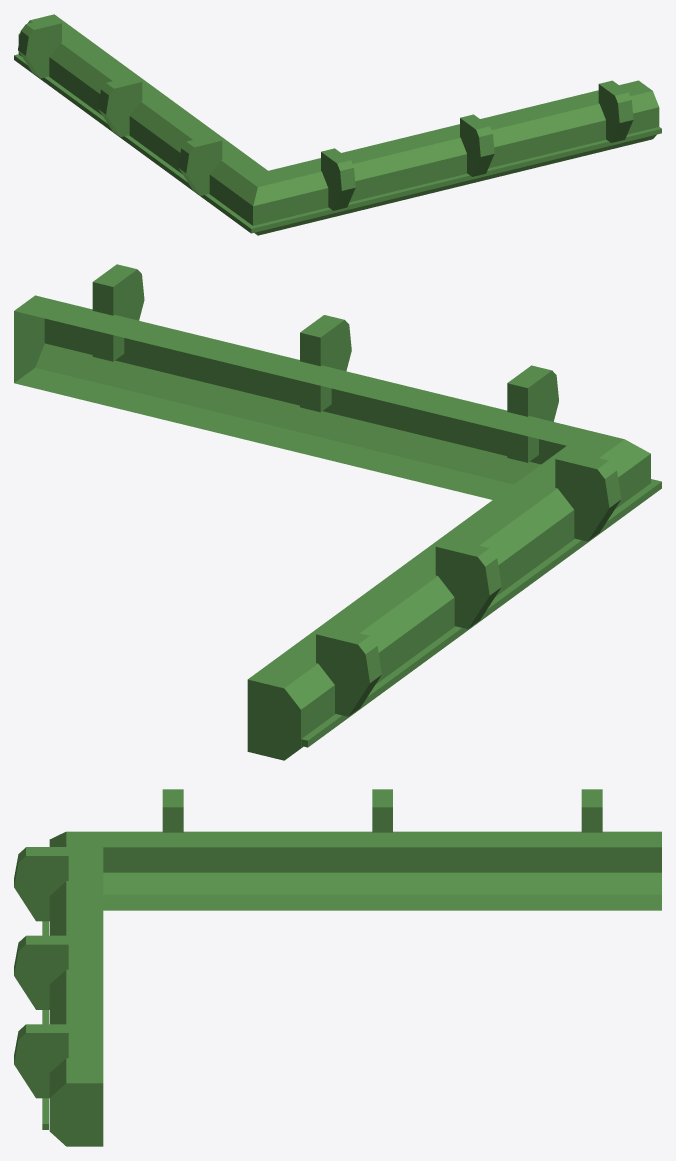
Rendered from parapet corner.FBX.
The picture shows the model from 3 angles, top to bottom: view 1: azimuth 30°, elevation 25°; view 2: azimuth 150°, elevation 25°; view 3: azimuth 270°, elevation 25°; orthographic projection. The views are drawn at different scales.
Parts seen in each view (by area): view 1: Object355; view 2: Object355; view 3: Object355.
Part boxes in pixels (x1,y1,x2,y2): Object355: (14,14,661,235); Object355: (14,264,661,760); Object355: (14,789,661,1146).
Bounding box in the file's own units: 4.64 × 0.6987 × 4.64.
